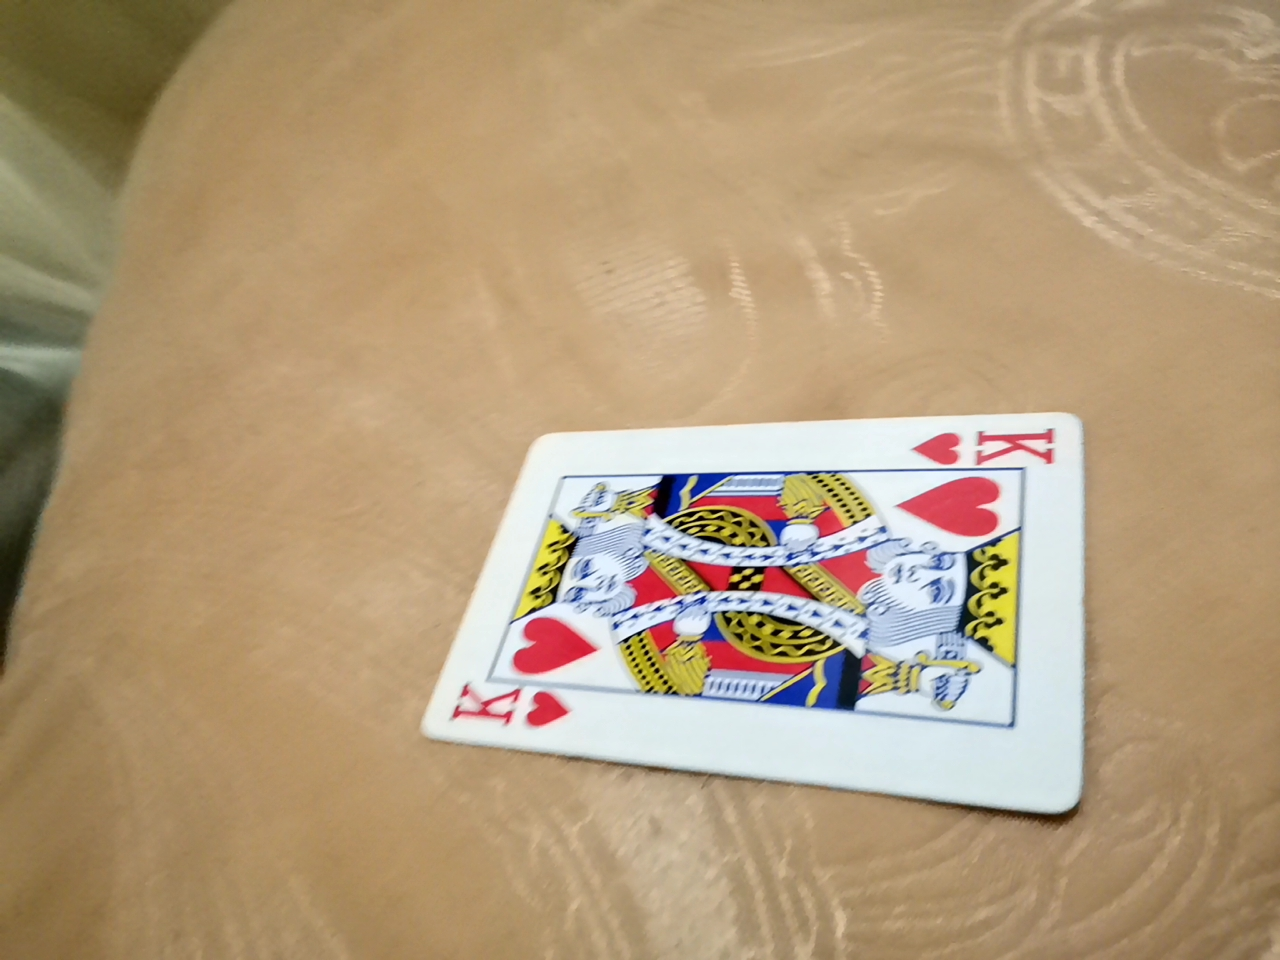hx k: (427, 408, 1087, 815)
